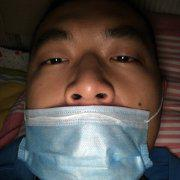WRONG: (23, 28, 165, 172)
